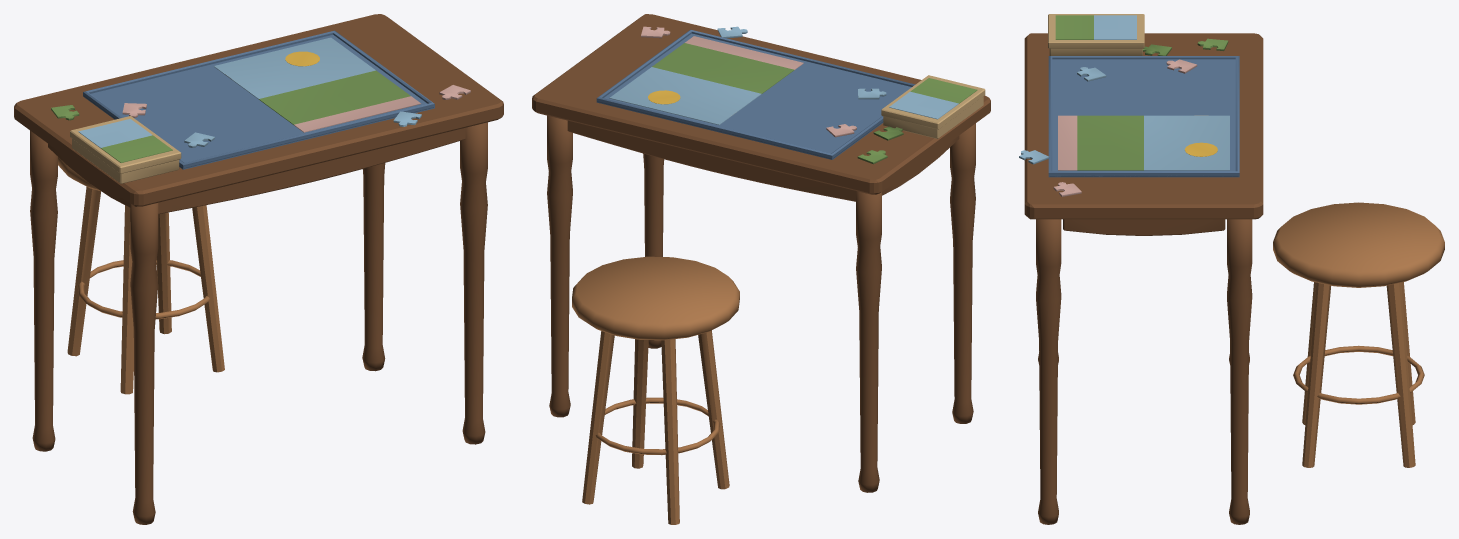
The model's file is puzzleTable.glb.
The picture shows the model from 3 angles, left to right: view 1: azimuth 30°, elevation 25°; view 2: azimuth 150°, elevation 25°; view 3: azimuth 270°, elevation 25°; orthographic projection. The views are drawn at different scales.
Visible parts, largest first — view 1: body; view 2: body; view 3: body.
Part boxes in pixels (bbox=[...]): body: bbox=[14, 14, 503, 524]; body: bbox=[532, 14, 990, 524]; body: bbox=[1019, 14, 1444, 524].
Bounding box in the file's own units: 0.866 × 0.7952 × 0.8918.
